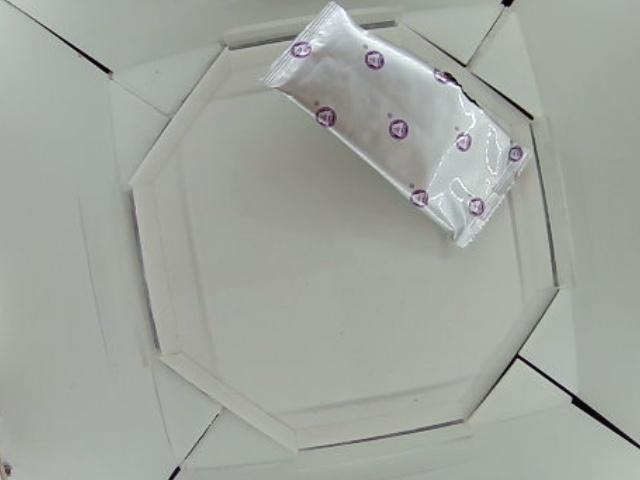Medicine: (258, 1, 534, 245)
